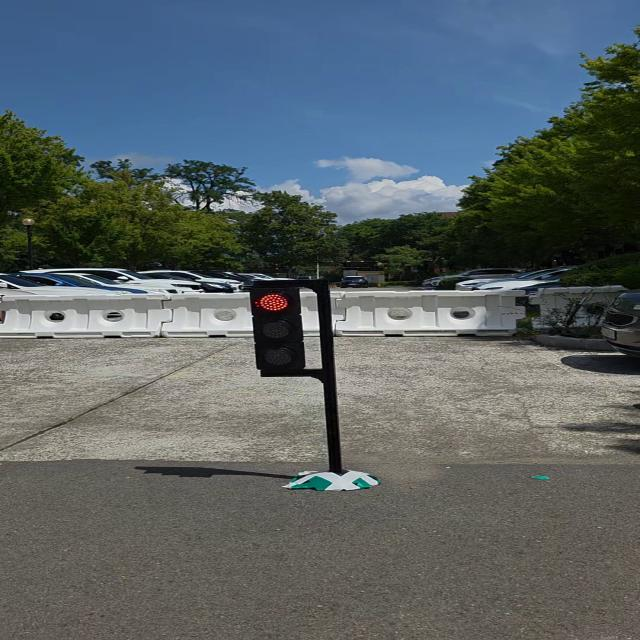red: (248, 279, 311, 381)
